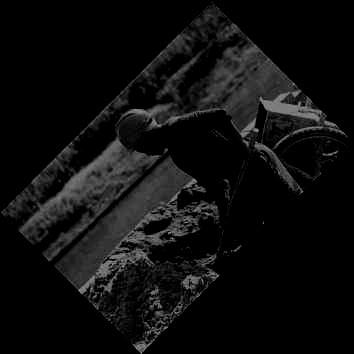helmet: (114, 108, 167, 157)
